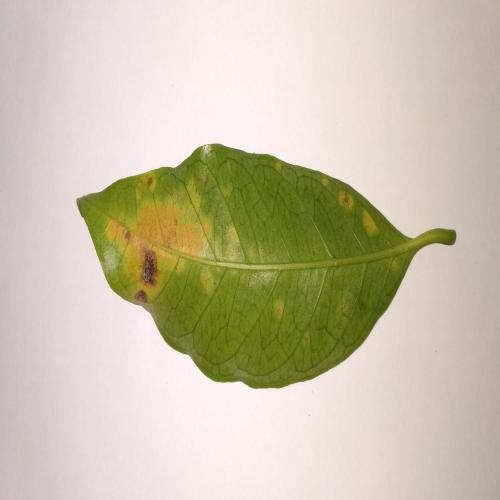phoma: (145, 175, 155, 191)
